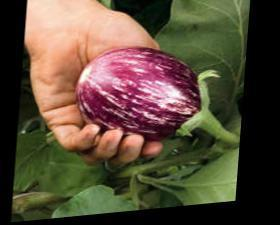eggplant: (58, 41, 239, 162)
